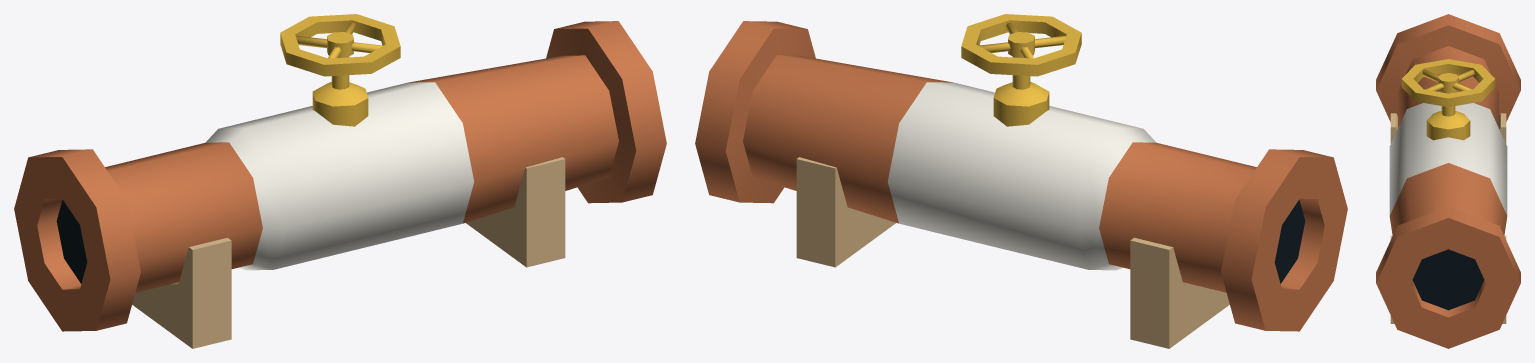
Rendered from copper-pipe.lod1.glb.
3 views of the same model, side by side, from view 1: azimuth 30°, elevation 25°; view 2: azimuth 150°, elevation 25°; view 3: azimuth 270°, elevation 25° (orthographic). The views are drawn at different scales.
Visible parts, largest first — view 1: copper-pipe_lod1; view 2: copper-pipe_lod1; view 3: copper-pipe_lod1.
Part boxes in pixels (bbox=[...]): copper-pipe_lod1: bbox=[14, 14, 666, 348]; copper-pipe_lod1: bbox=[695, 14, 1347, 348]; copper-pipe_lod1: bbox=[1376, 14, 1520, 348].
Size of the model in its own units: 1 by 0.408 by 0.3.
